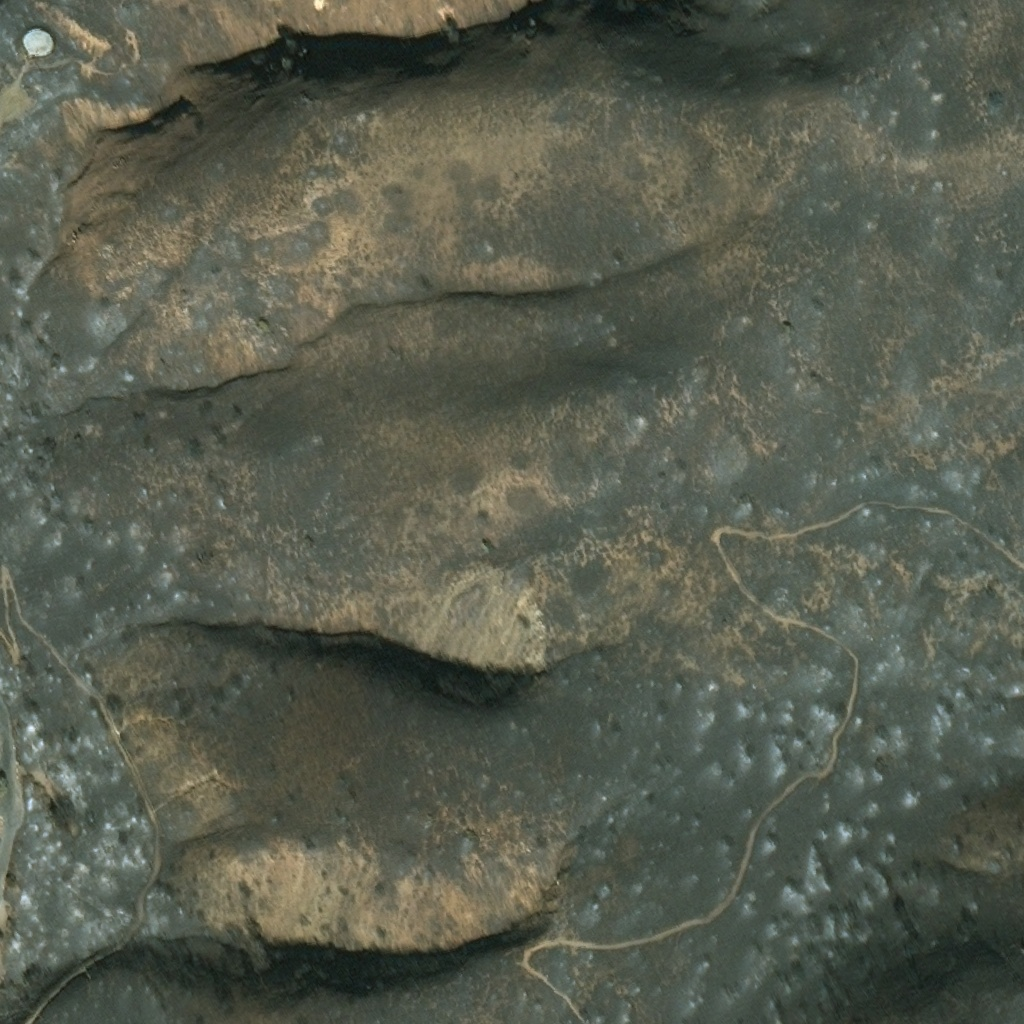0 no-damage: (22, 30, 52, 57)
